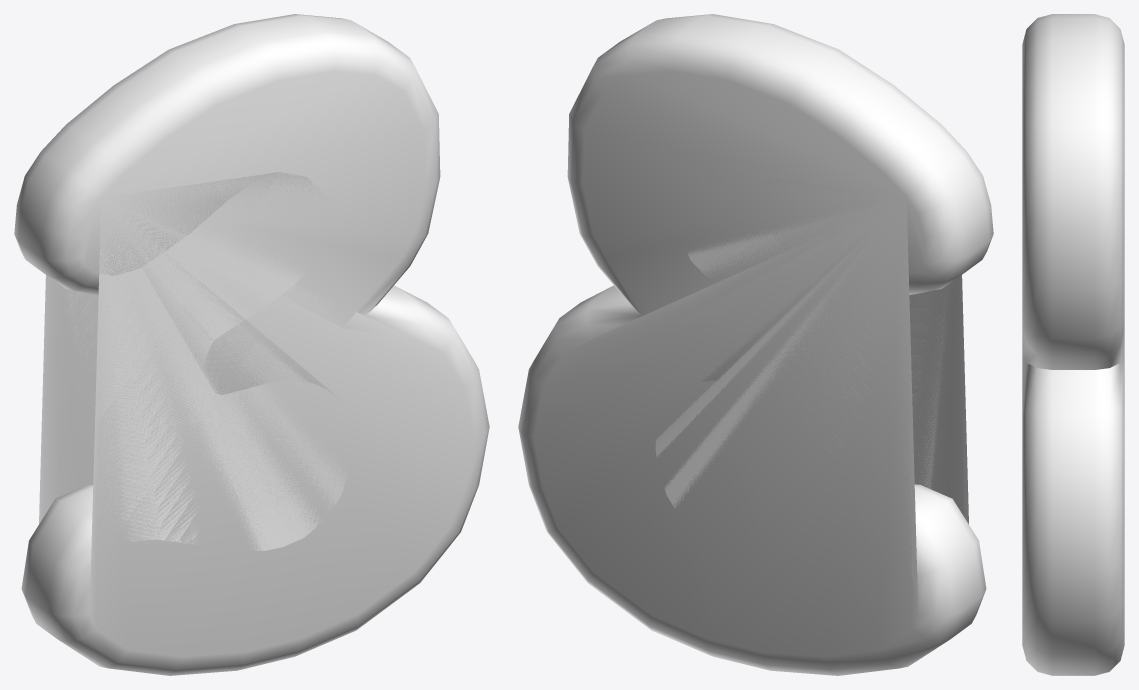
File: NumberThree 2.fbx
3 renders of one model, left to right at view 1: azimuth 30°, elevation 25°; view 2: azimuth 150°, elevation 25°; view 3: azimuth 270°, elevation 25°, orthographic. The views are drawn at different scales.
Visible parts, largest first — view 1: Vert.016; view 2: Vert.016; view 3: Vert.016.
Part boxes in pixels (box(x1,y1,x2,y2)): Vert.016: box(14, 14, 489, 675); Vert.016: box(518, 14, 993, 675); Vert.016: box(1022, 14, 1124, 675).
Bounding box in the file's own units: 343 × 455 × 69.56.
